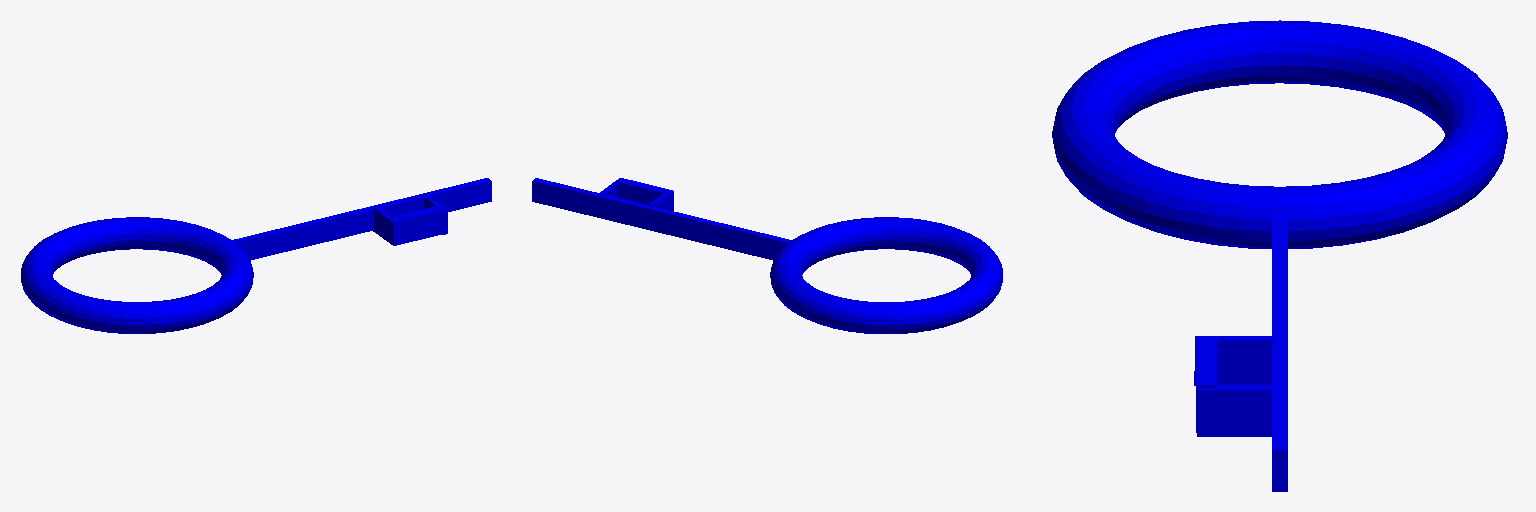
robot.urdf — ring:
<?xml version="0.0" ?>
<robot name="ring">
    <material name="white">
        <color rgba="0 0 1 1"/>
    </material>

    <link name="baseLink">
        <!-- from lego/lego.urdf -->
        <contact>
            <lateral_friction value="1.0"/>
            <rolling_friction value="0.0"/>
            <contact_cfm value="0.0"/>
            <contact_erp value="1.0"/>
        </contact>
        <inertial>
            <origin rpy="0 0 0" xyz="0 0 0"/>
            <mass value="0.01"/>
            <inertia ixx="1" ixy="0" ixz="0" iyy="1" iyz="0" izz="1"/>
        </inertial>
        <visual>
            <origin rpy="1.57 0 0" xyz="0 0 0"/>
            <geometry>
                <!--        radius: 10mm, depth: 14.5mm-->
                <mesh filename="meshes/ring_lock.obj" scale="1 1 1"/>
                <!--        <box size="0.002 0.002 0.002"/>-->
            </geometry>
            <material name="white"/>
        </visual>
        <collision >
            <origin rpy="1.57 0 0" xyz="0 0 0"/>
            <geometry>
                <mesh filename="meshes/ring_lock_vhacd.obj" scale="1 1 1"/>
                       <!-- <box size="2 2 2"/> -->
            </geometry>
        </collision>
    </link>
</robot>

--- Facts derived from the render (not from the file) ---
The picture shows the robot from 3 angles, left to right: view 1: azimuth 30°, elevation 25°; view 2: azimuth 150°, elevation 25°; view 3: azimuth 270°, elevation 25°; orthographic projection.
Robot: ring — 1 links, 0 joints (none); root link baseLink; default pose: every joint at zero.
Visible links, largest first — view 1: baseLink; view 2: baseLink; view 3: baseLink.
Boxes of the visible links, left/top/right/bottom form: baseLink: left=21, top=178, right=491, bottom=333; baseLink: left=532, top=178, right=1002, bottom=333; baseLink: left=1052, top=20, right=1507, bottom=491.
Size in the robot's own frame: 0.2245 by 0.1001 by 0.0139 metres.
1 mesh visuals loaded from 1 distinct referenced files (1 OBJ).